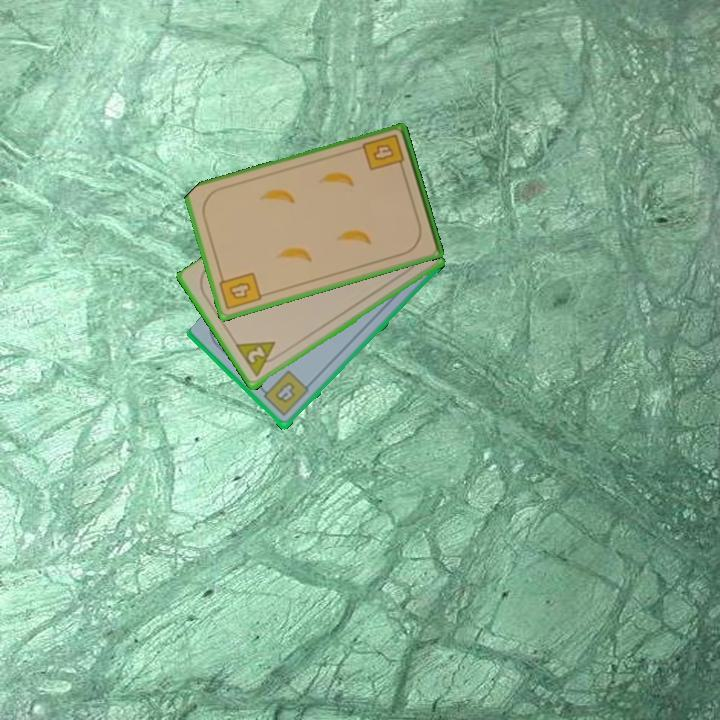2p: (233, 338, 284, 380)
4b: (257, 367, 312, 419), (216, 269, 264, 313), (359, 131, 407, 174)
